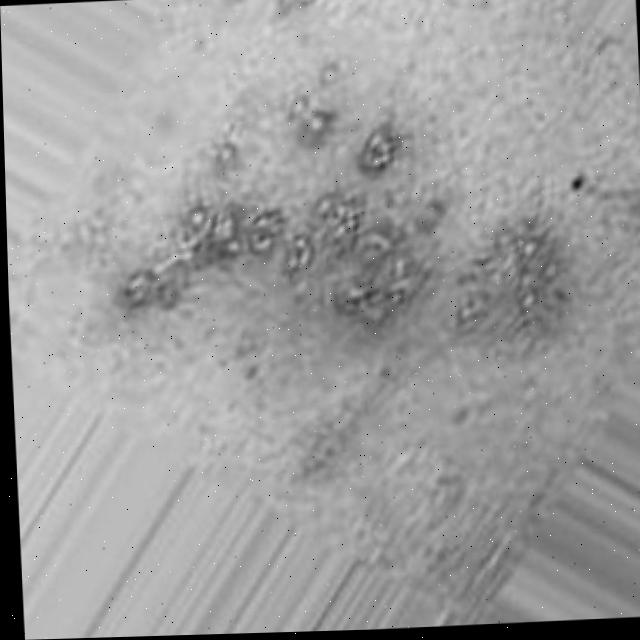Shingles: (109, 90, 567, 355)
